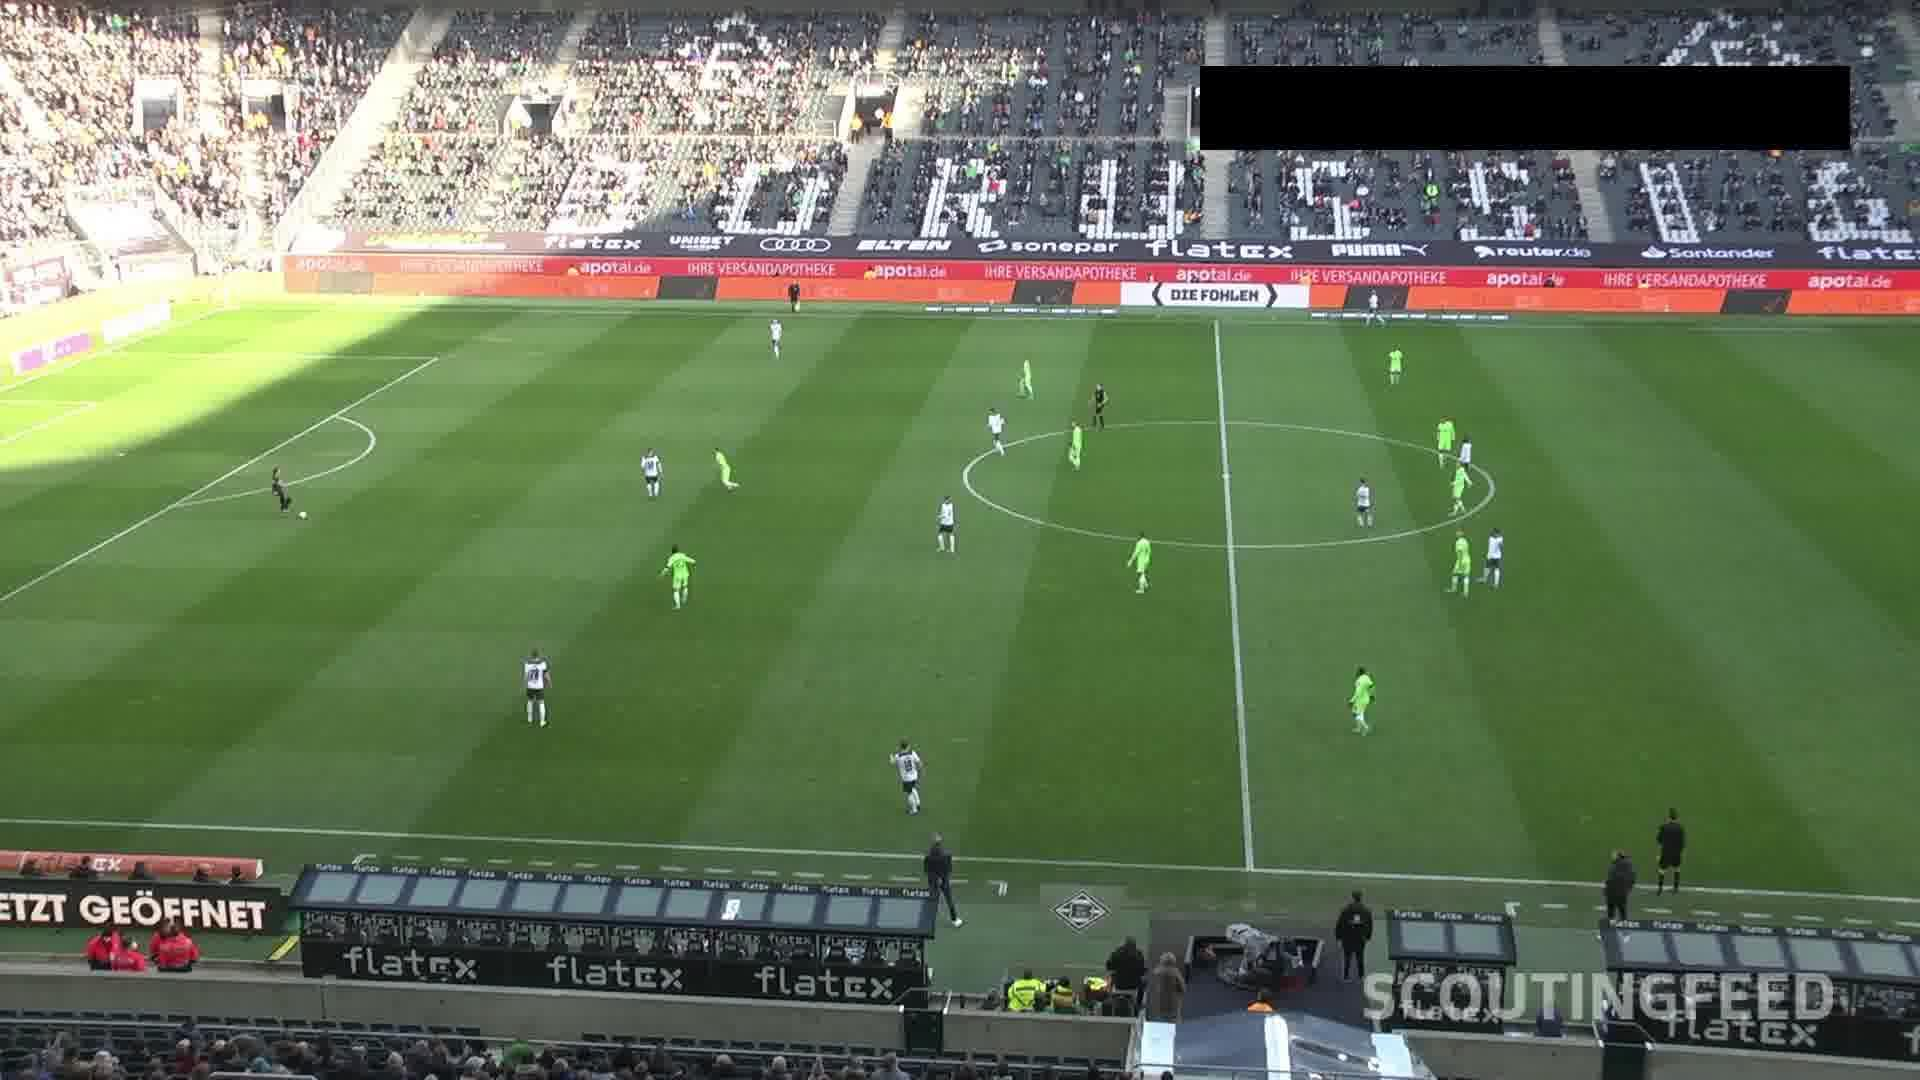football: (297, 509, 310, 522)
